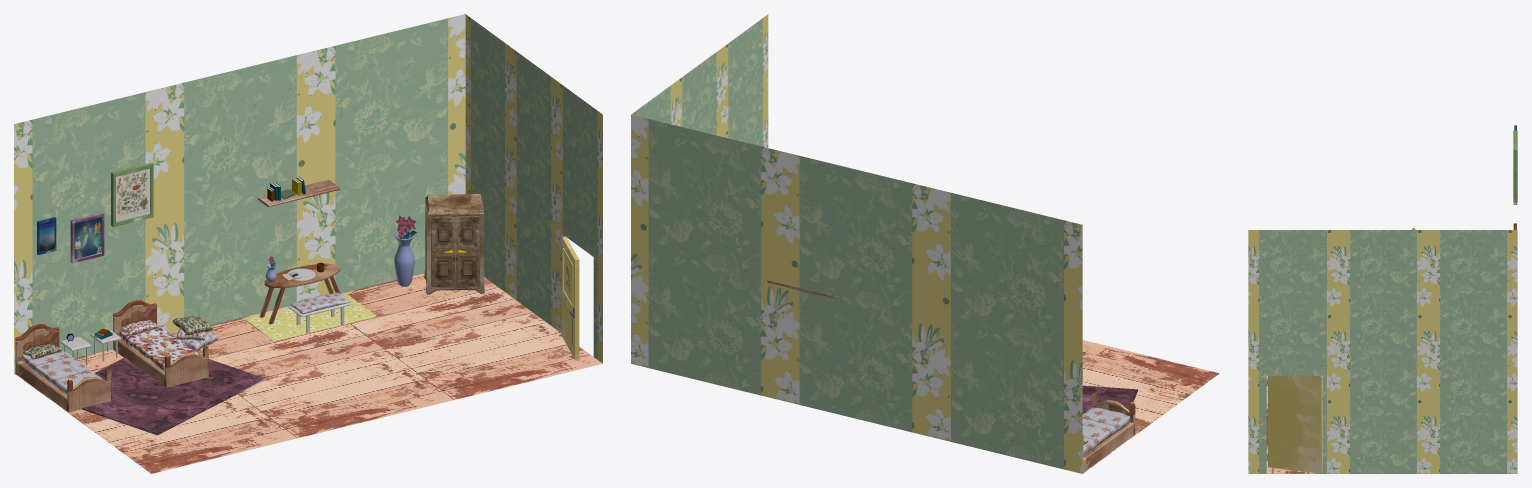
Rendered from ChambreKirie.fbx.
The picture shows the model from 3 angles, left to right: view 1: azimuth 30°, elevation 25°; view 2: azimuth 150°, elevation 25°; view 3: azimuth 270°, elevation 25°; orthographic projection. The views are drawn at different scales.
Visible parts, largest first — view 1: murFond, sol, murDroit, tapis, piedLit (×2), garde_robe_ferme:garde_robe, cadre1, tapisCuisine, teteLit (×2), PorteSortie, garde_robe_ferme:porte_gcote_d_fer1, garde_robe_ferme:porte_gcote_g_fer1 (+9 smaller); view 2: murFond, murDroit, sol, matelas, tapis, baseLit; view 3: murDroit, PorteSortie, sol, cadre1.
Part boxes in pixels (<box>): murFond: <box>14,14,465,373</box>; sol: <box>14,273,602,473</box>; murDroit: <box>465,14,602,363</box>; tapis: <box>82,357,265,435</box>; piedLit (×2): <box>66,346,208,412</box>; garde_robe_ferme:garde_robe: <box>424,194,484,294</box>; cadre1: <box>111,162,153,226</box>; tapisCuisine: <box>245,294,376,341</box>; teteLit (×2): <box>15,300,156,374</box>; PorteSortie: <box>562,236,579,359</box>; garde_robe_ferme:porte_gcote_d_fer1: <box>455,216,479,286</box>; garde_robe_ferme:porte_gcote_g_fer1: <box>431,216,455,287</box>; murFond: <box>631,114,1082,473</box>; murDroit: <box>631,14,768,147</box>; sol: <box>1082,340,1219,473</box>; matelas: <box>1082,407,1130,455</box>; tapis: <box>1082,385,1137,413</box>; baseLit: <box>1083,422,1133,471</box>; murDroit: <box>1248,230,1517,473</box>; PorteSortie: <box>1268,376,1322,473</box>; sol: <box>1266,376,1322,473</box>; cadre1: <box>1513,130,1517,202</box>.
Bounding box in the file's own units: 569 × 300 × 300.
